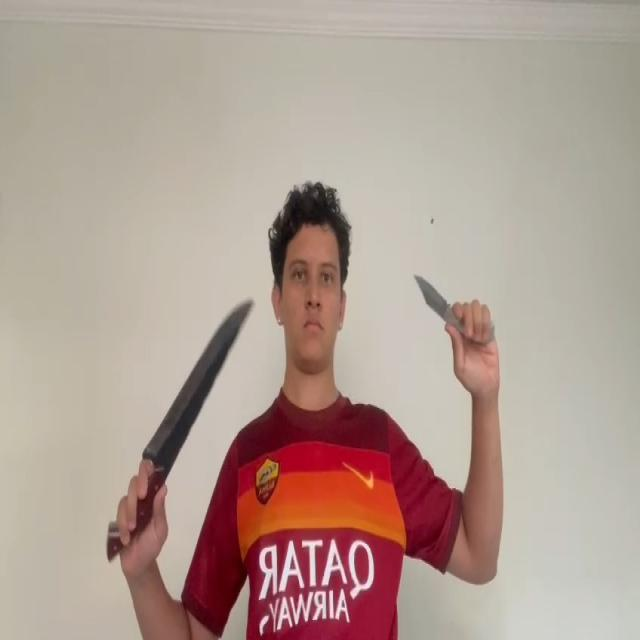knife: (144, 299, 254, 460), (413, 273, 448, 322)
